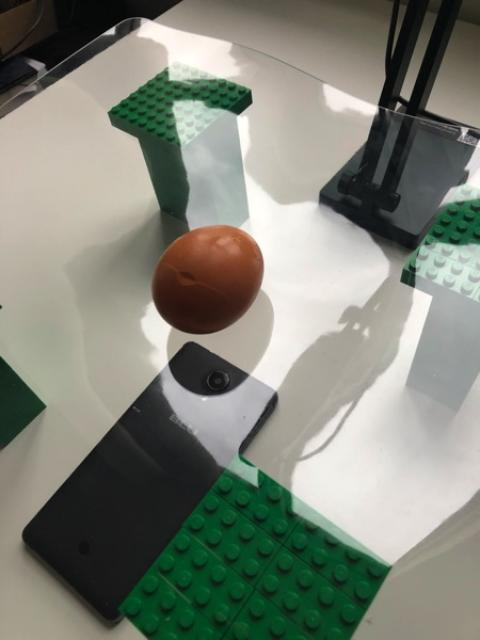Roto: (150, 223, 263, 334)
